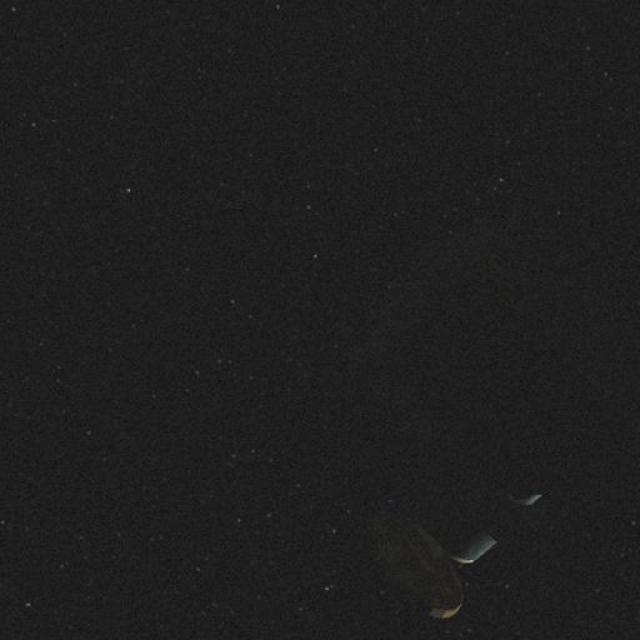cheops: (341, 427, 569, 626)
